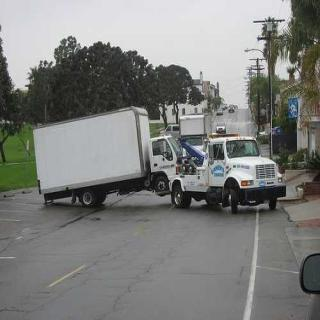Towing_truck: (169, 125, 288, 215)
